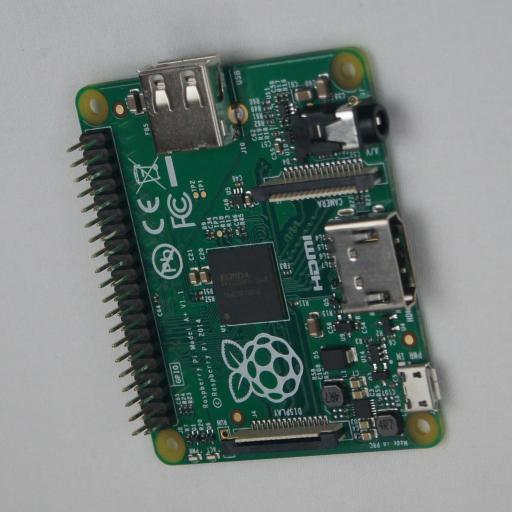Raspberry Pi A-: (69, 47, 445, 465)
